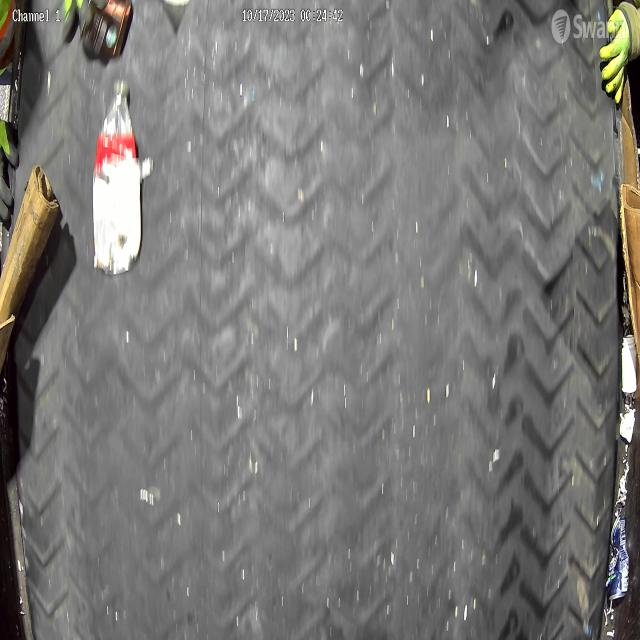can: (607, 514, 630, 601)
plastic_bottle: (94, 80, 140, 251)
